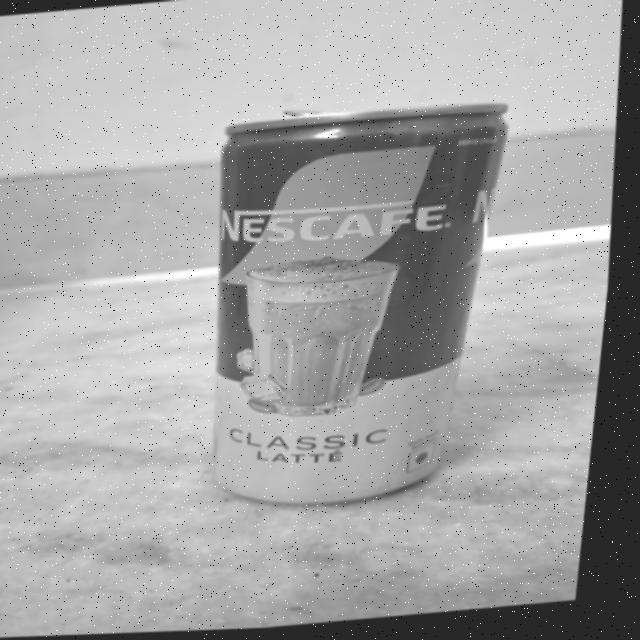Nescafe Classic Iced Latte: (178, 101, 538, 511)
